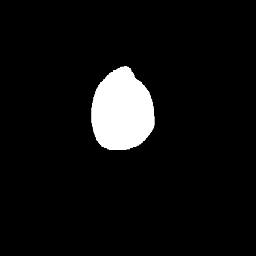mass: (90, 68, 152, 150)
